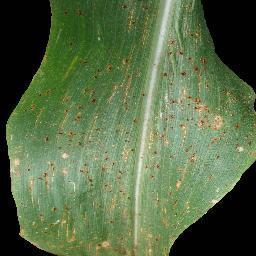Corn_Common_Rust: (150, 0, 256, 183), (5, 56, 145, 183), (11, 183, 235, 256), (117, 0, 150, 31), (60, 2, 87, 19), (137, 31, 150, 56), (66, 39, 78, 50)
